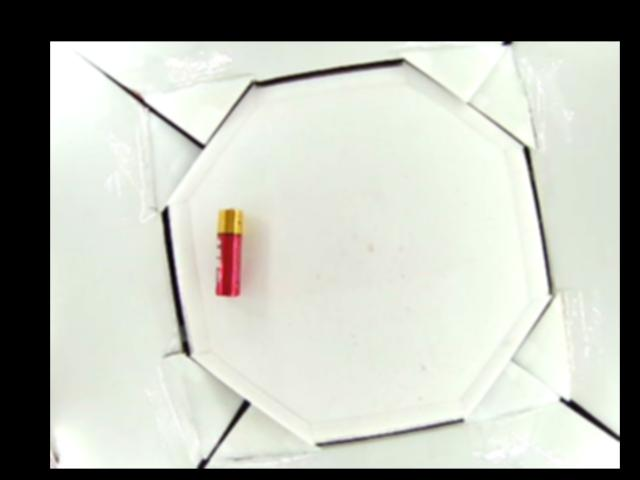Battery: (215, 207, 243, 297)
